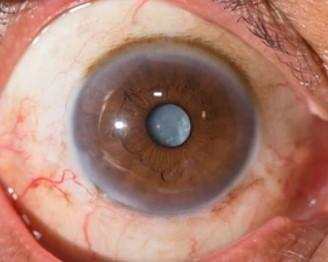eye: (76, 43, 257, 210)
